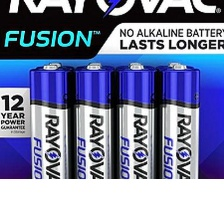battery: (27, 61, 74, 210), (112, 60, 161, 200), (71, 61, 116, 204), (157, 61, 202, 201)
